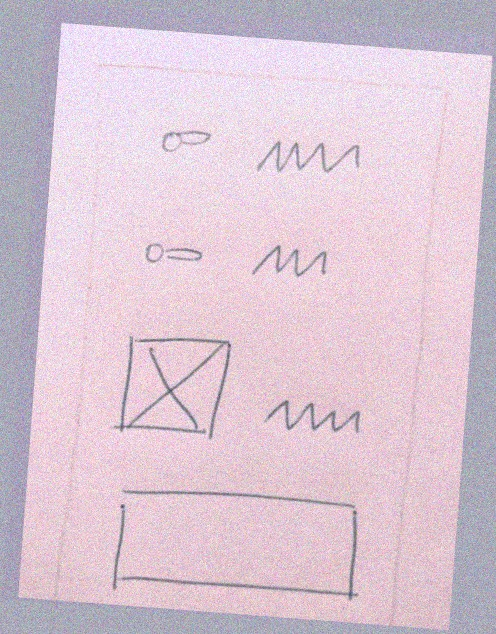image: (104, 326, 248, 449)
switch: (154, 117, 226, 162), (135, 235, 214, 273)
text: (257, 384, 373, 449), (246, 131, 375, 182), (240, 239, 343, 290)
text_input: (95, 472, 373, 612)
